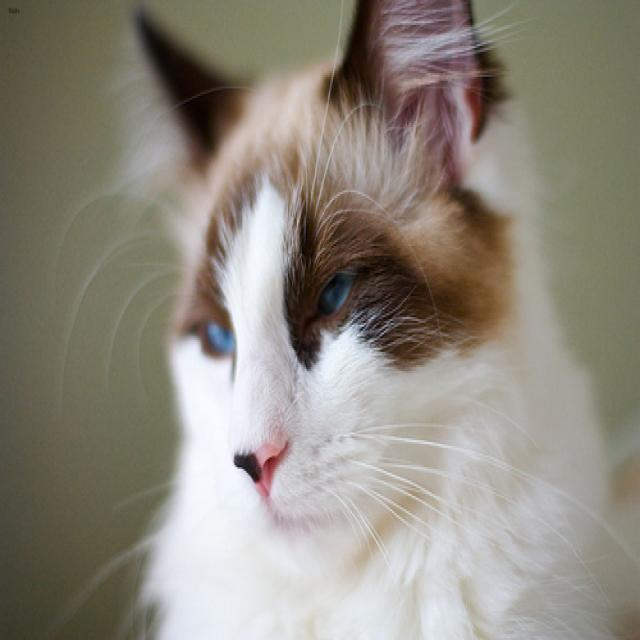Ragdoll: (126, 0, 494, 580)
